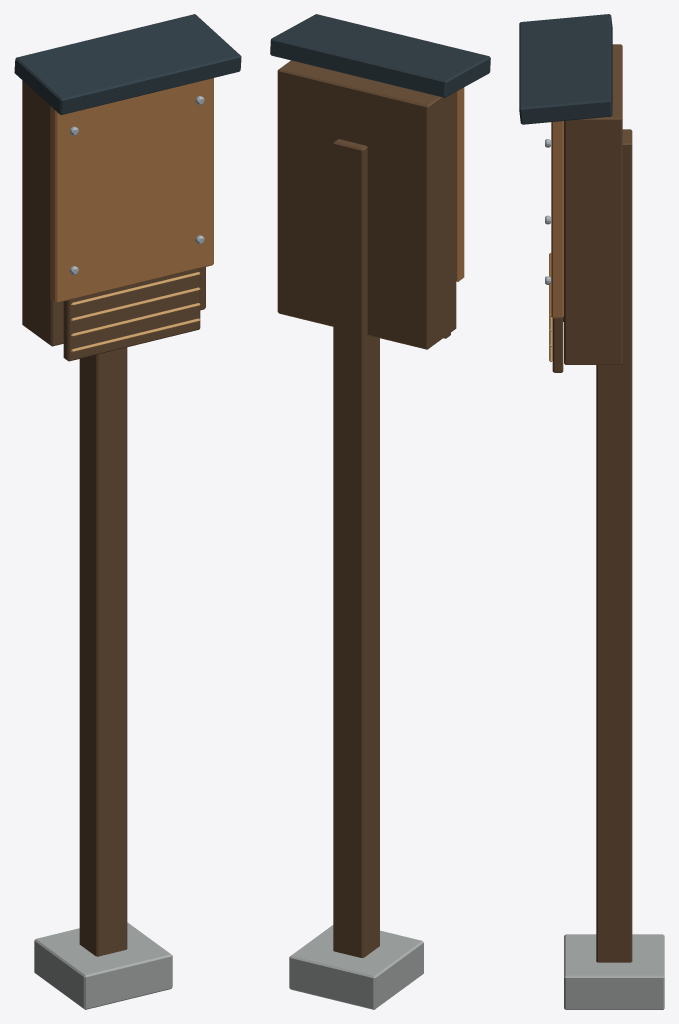
Rendered from b11_pole_mounted_bat_house.glb.
The picture shows the model from 3 angles, left to right: view 1: azimuth 30°, elevation 25°; view 2: azimuth 150°, elevation 25°; view 3: azimuth 270°, elevation 25°; orthographic projection. The views are drawn at different scales.
Parts seen in each view (by area): view 1: b11_pole_mounted_bat_house; view 2: b11_pole_mounted_bat_house; view 3: b11_pole_mounted_bat_house.
Boxes of the visible parts, <box> form: b11_pole_mounted_bat_house: <box>14,14,241,1009</box>; b11_pole_mounted_bat_house: <box>270,14,490,1009</box>; b11_pole_mounted_bat_house: <box>519,14,664,1009</box>.
Bounding box in the file's own units: 0.49 × 2.45 × 0.3463.
